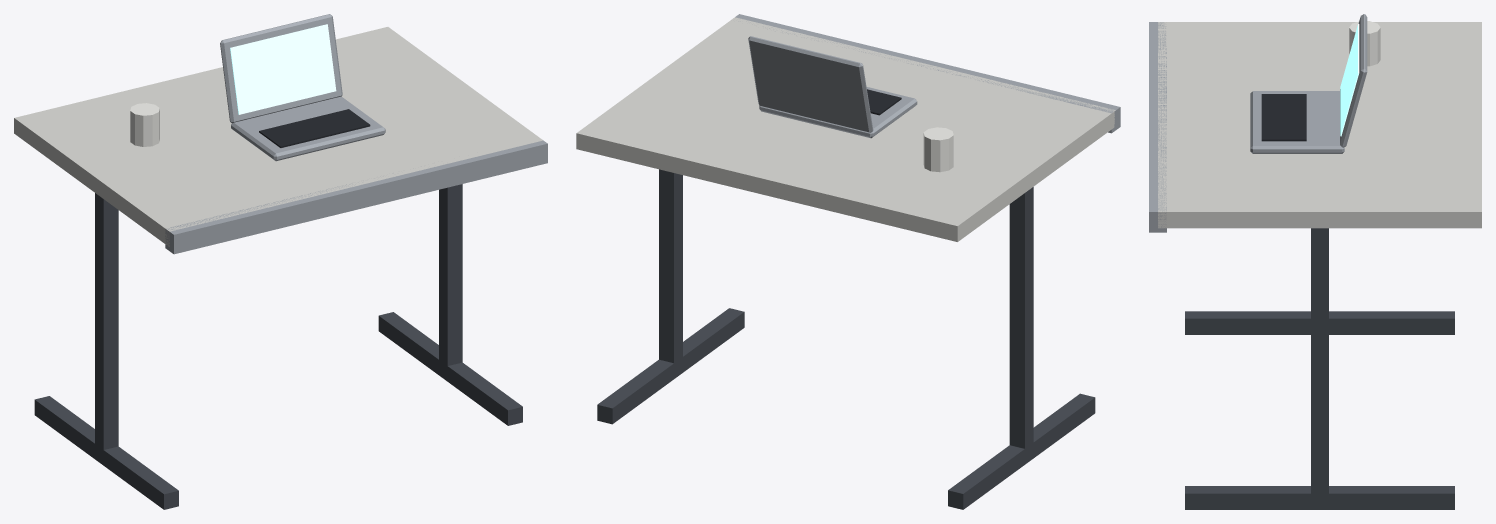
File: conference_table.glb
3 renders of one model, left to right at view 1: azimuth 30°, elevation 25°; view 2: azimuth 150°, elevation 25°; view 3: azimuth 270°, elevation 25°, orthographic. The views are drawn at different scales.
Visible parts, largest first — view 1: conference_table_mesh; view 2: conference_table_mesh; view 3: conference_table_mesh.
Part boxes in pixels (left/top/right/bottom): conference_table_mesh: left=14, top=14, right=547, bottom=509; conference_table_mesh: left=576, top=14, right=1120, bottom=509; conference_table_mesh: left=1149, top=14, right=1481, bottom=509.
Bounding box in the file's own units: 1 × 0.9492 × 0.74.
